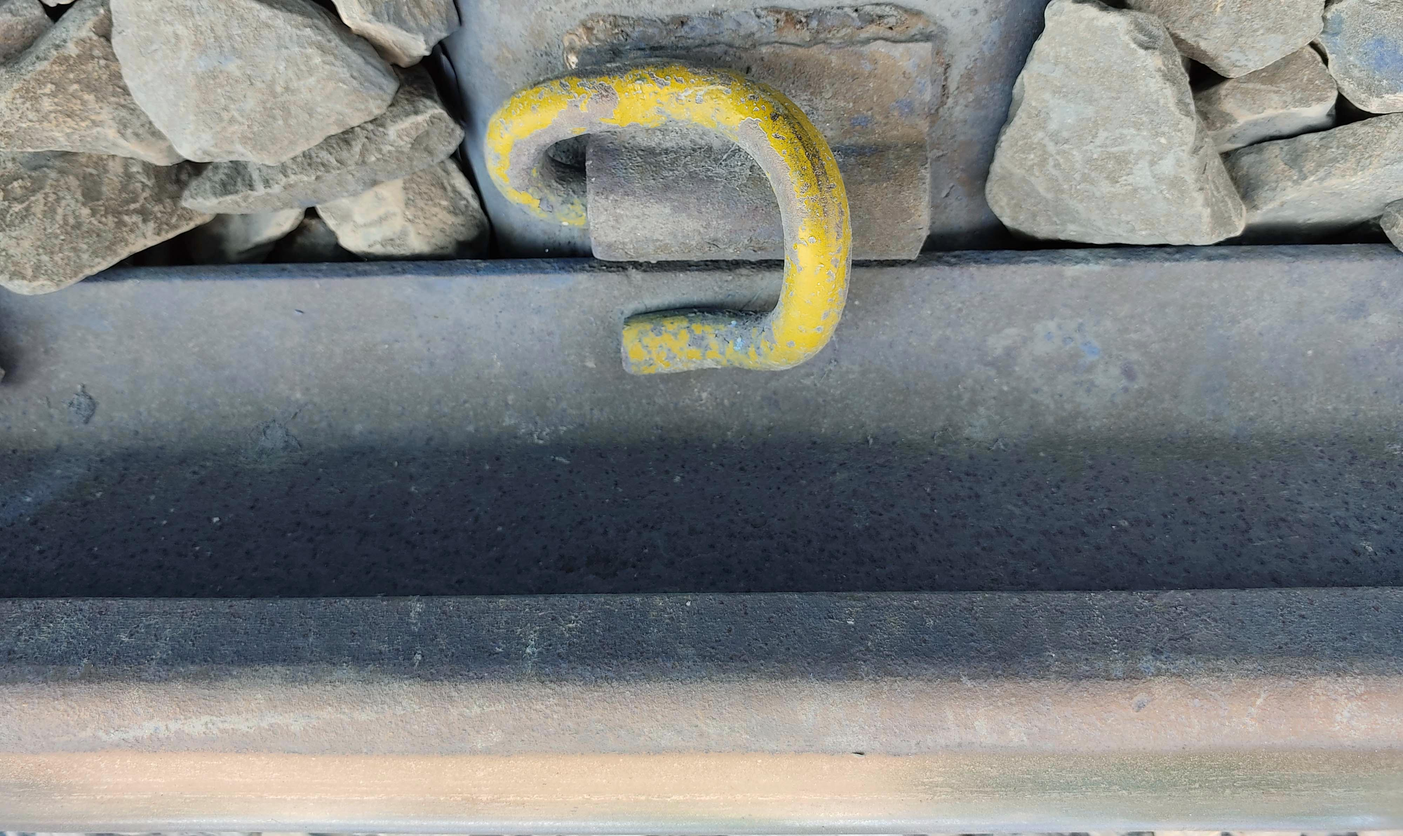Poor contact: (475, 39, 938, 395)
